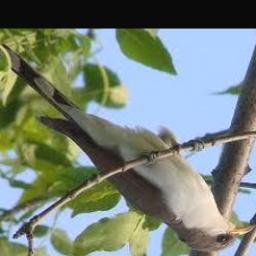Cuckoo: (0, 39, 255, 251)
